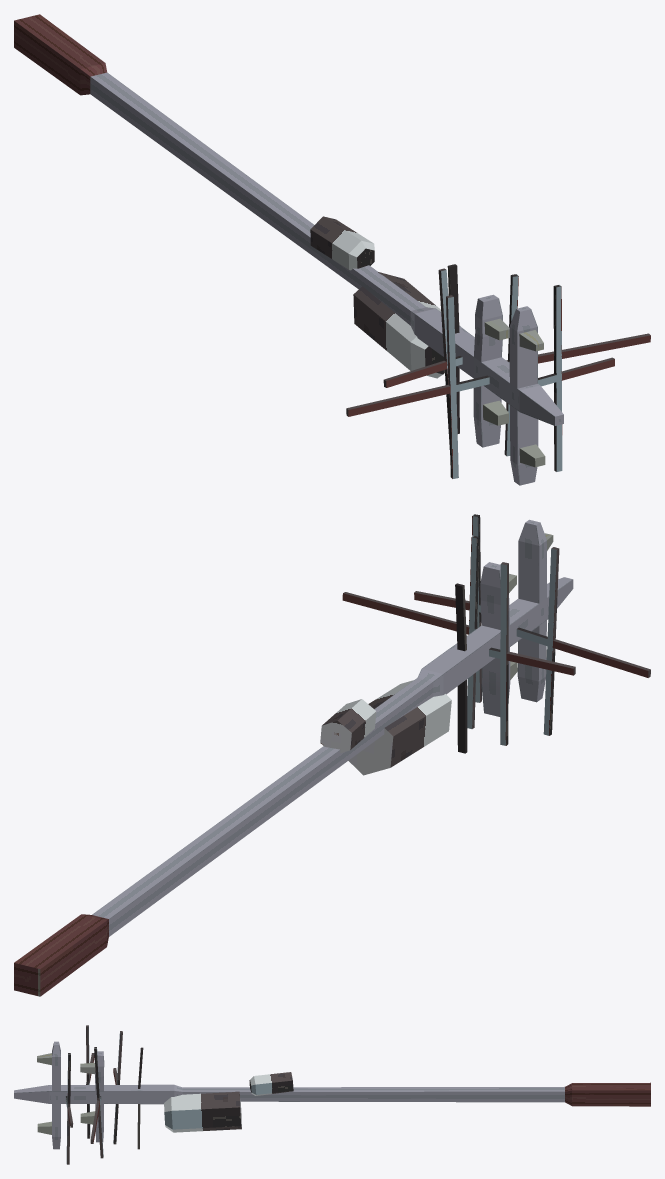
File: 010_tolppaWired_001.gltf
3 views of the same model, one above another, from view 1: azimuth 30°, elevation 25°; view 2: azimuth 150°, elevation 25°; view 3: azimuth 270°, elevation 25° (orthographic). The views are drawn at different scales.
Parts seen in each view (by area): view 1: tolppaWired_001; view 2: tolppaWired_001; view 3: tolppaWired_001.
Part boxes in pixels (left/top/right/bottom): tolppaWired_001: left=14, top=14, right=650, bottom=485; tolppaWired_001: left=14, top=514, right=650, bottom=996; tolppaWired_001: left=14, top=1025, right=650, bottom=1164.
Size of the model in its own units: 9.19 by 5.41 by 28.08.
1 material, 1 textured.
